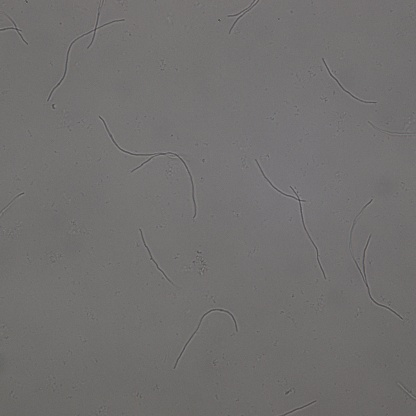Sensitive: (100, 116, 198, 219), (46, 11, 126, 102), (346, 198, 403, 319), (174, 307, 238, 367), (290, 187, 325, 278), (322, 59, 377, 106), (255, 160, 305, 203), (139, 228, 171, 285), (226, 1, 260, 35)
